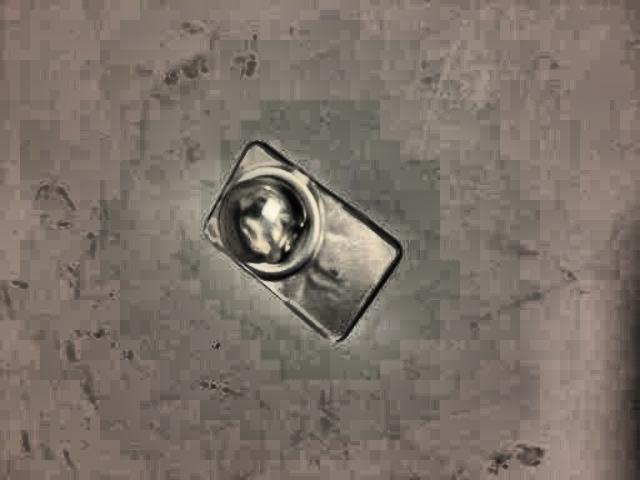Plastic: (182, 134, 424, 357)
